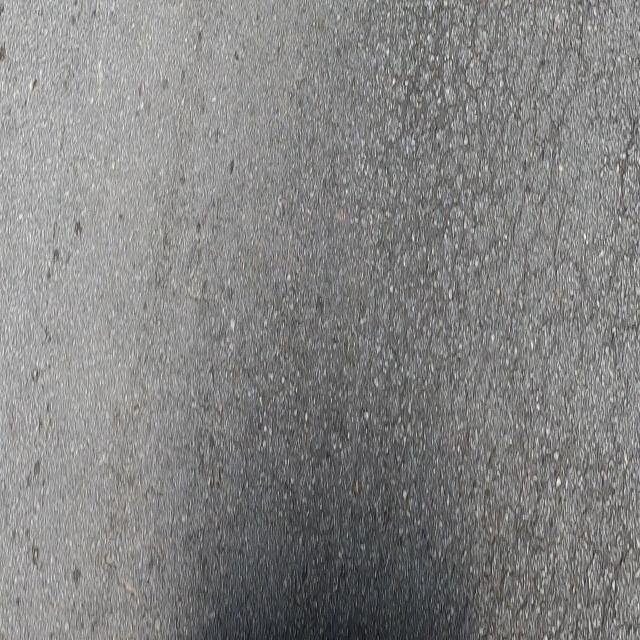Retak-Buaya: (300, 3, 640, 640)
